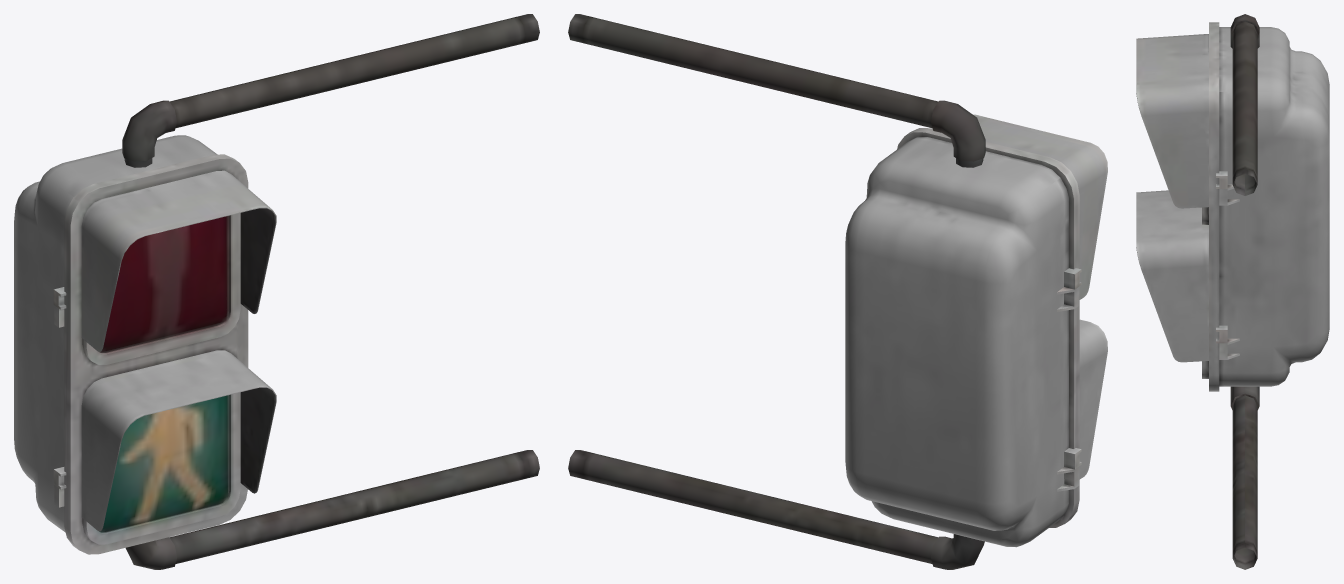
File: signal_ped.glb
3 views of the same model, side by side, from view 1: azimuth 30°, elevation 25°; view 2: azimuth 150°, elevation 25°; view 3: azimuth 270°, elevation 25° (orthographic). The views are drawn at different scales.
Parts seen in each view (by area): view 1: TrafficLight_15_low_14, TrafficLight_16_low_15, TrafficLight_18_low_17, TrafficLight_17_low_16; view 2: TrafficLight_15_low_14, TrafficLight_18_low_17, TrafficLight_16_low_15, TrafficLight_17_low_16; view 3: TrafficLight_15_low_14, TrafficLight_16_low_15, TrafficLight_18_low_17, TrafficLight_17_low_16.
Part boxes in pixels (x1,y1,x2,y2): TrafficLight_15_low_14: [14, 135, 248, 554]; TrafficLight_16_low_15: [81, 170, 276, 531]; TrafficLight_18_low_17: [122, 14, 539, 569]; TrafficLight_17_low_16: [53, 287, 66, 507]; TrafficLight_15_low_14: [845, 128, 1079, 547]; TrafficLight_18_low_17: [568, 14, 985, 569]; TrafficLight_16_low_15: [973, 114, 1107, 479]; TrafficLight_17_low_16: [1057, 268, 1081, 491]; TrafficLight_15_low_14: [1202, 22, 1329, 391]; TrafficLight_16_low_15: [1136, 34, 1208, 362]; TrafficLight_18_low_17: [1230, 14, 1259, 569]; TrafficLight_17_low_16: [1216, 171, 1239, 359].
Size of the model in its own units: 1.05 by 0.9524 by 0.4182.
Materials: 1 (1 with a texture image).
